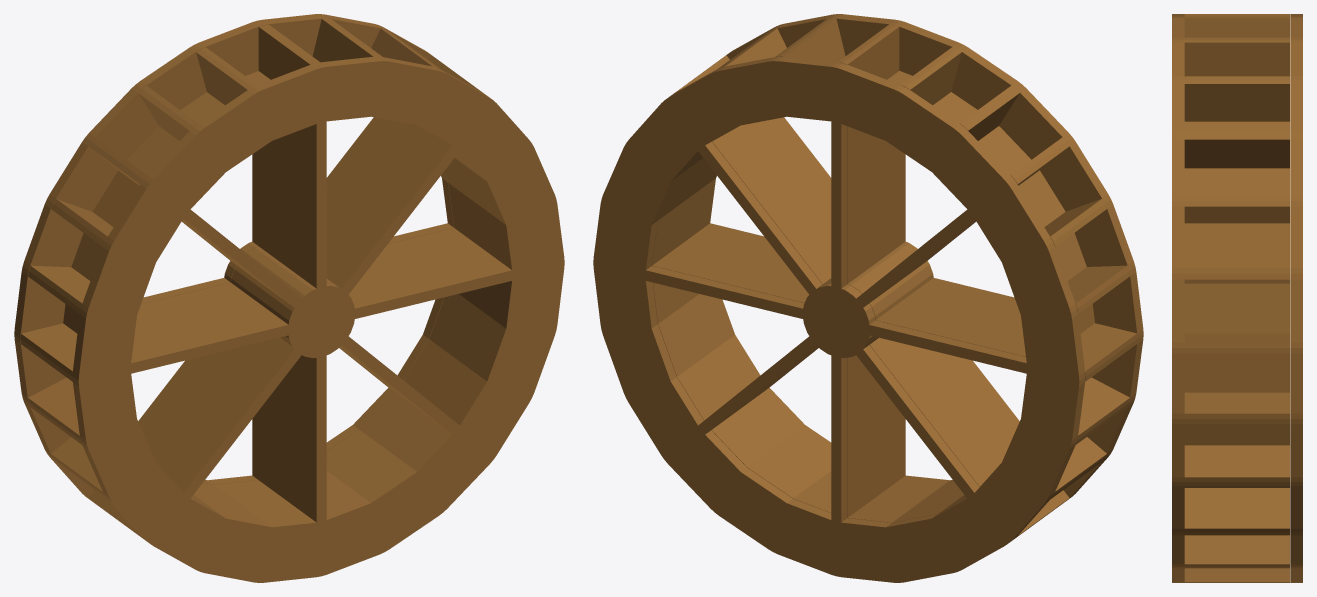
Rendered from water wheel.glb.
3 views of the same model, side by side, from view 1: azimuth 30°, elevation 25°; view 2: azimuth 150°, elevation 25°; view 3: azimuth 270°, elevation 25° (orthographic).
Parts seen in each view (by area): view 1: 円.001, 円, 円.002; view 2: 円.002, 円, 円.001; view 3: 円, 円.001, 円.002.
Boxes of the visible parts, left/top/right/bottom form: 円.001: left=72, top=56, right=564, bottom=582; 円: left=20, top=18, right=505, bottom=538; 円.002: left=14, top=14, right=454, bottom=500; 円.002: left=593, top=56, right=1085, bottom=582; 円: left=652, top=18, right=1137, bottom=538; 円.001: left=704, top=14, right=1143, bottom=500; 円: left=1184, top=14, right=1289, bottom=582; 円.001: left=1172, top=14, right=1184, bottom=582; 円.002: left=1290, top=14, right=1302, bottom=582.
Bounding box in the file's own units: 2 × 2 × 0.4582.
